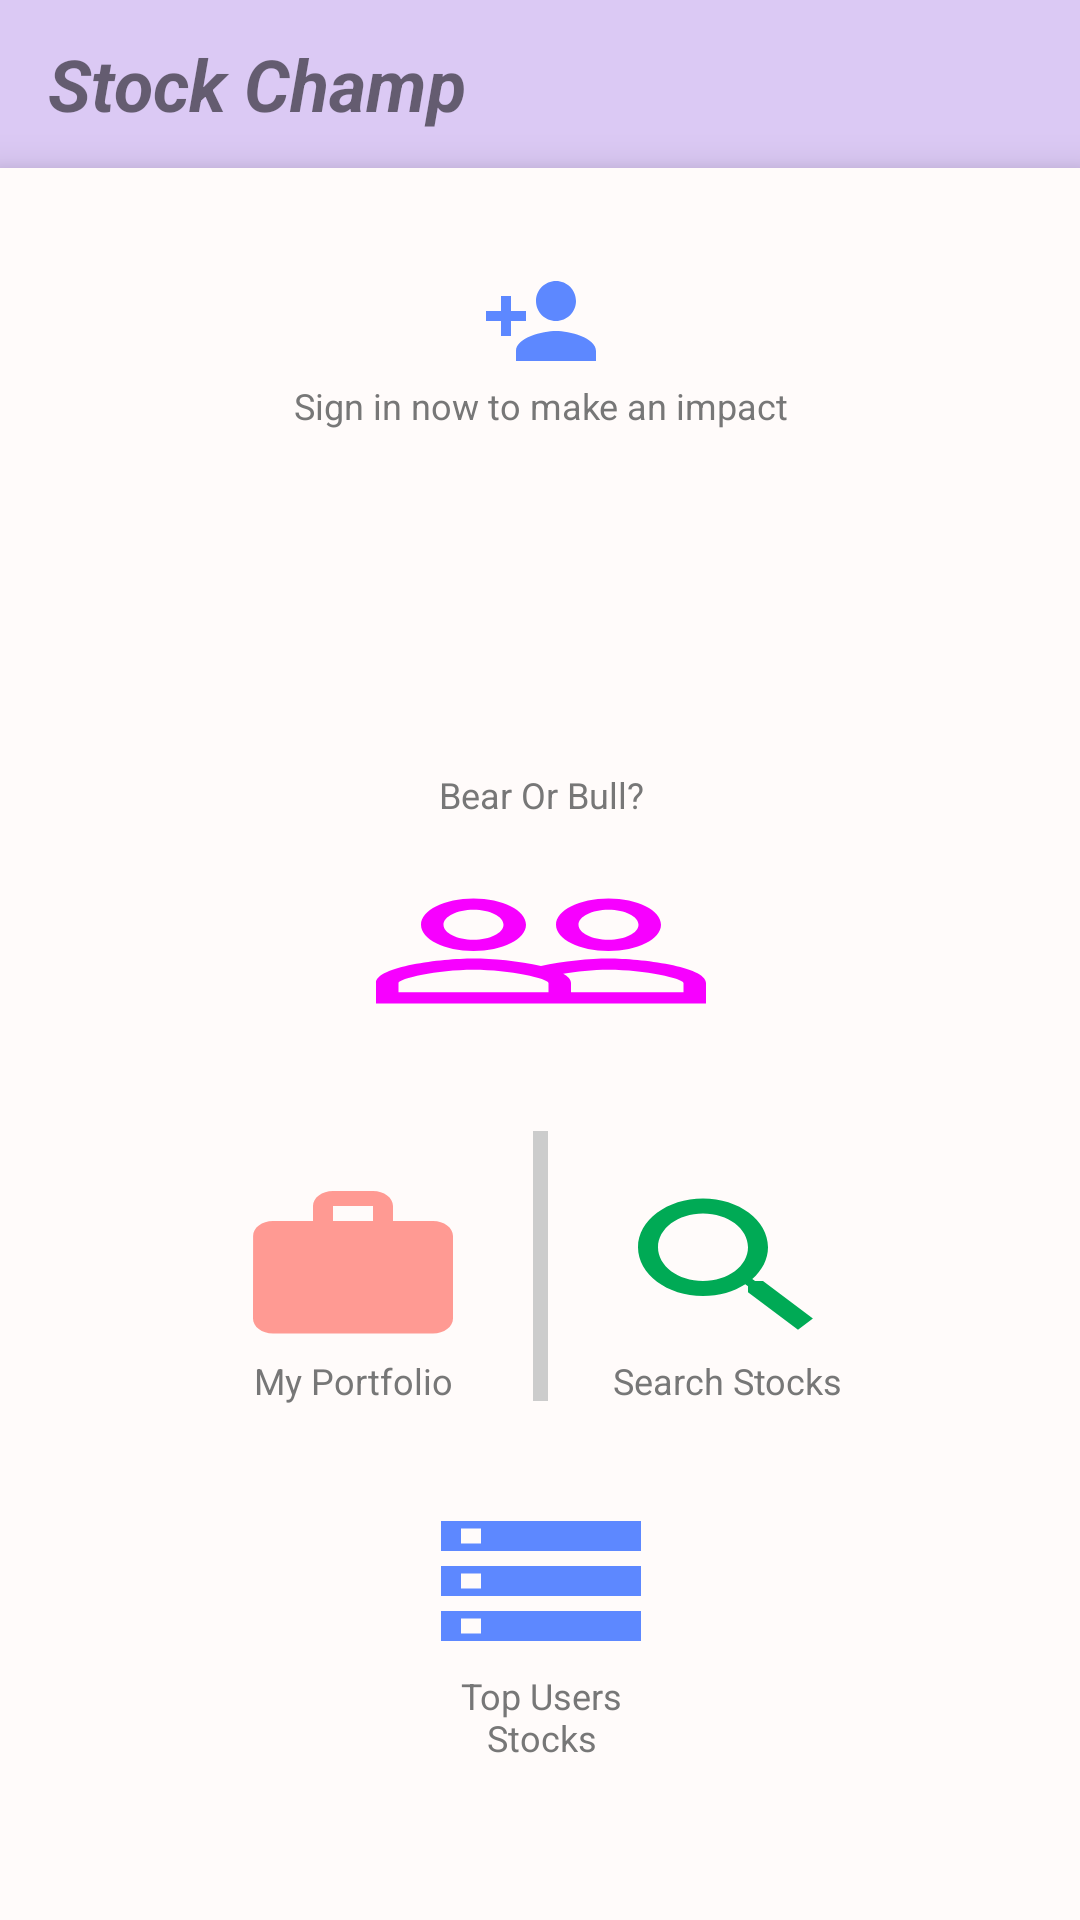

Icons on this 1080w x 1920h Android screen, each with its box as box=[x1, y1, x2, y2]:
people: box=[376, 898, 706, 1004]
storage: box=[441, 1521, 641, 1641]
work: box=[253, 1191, 453, 1334]
